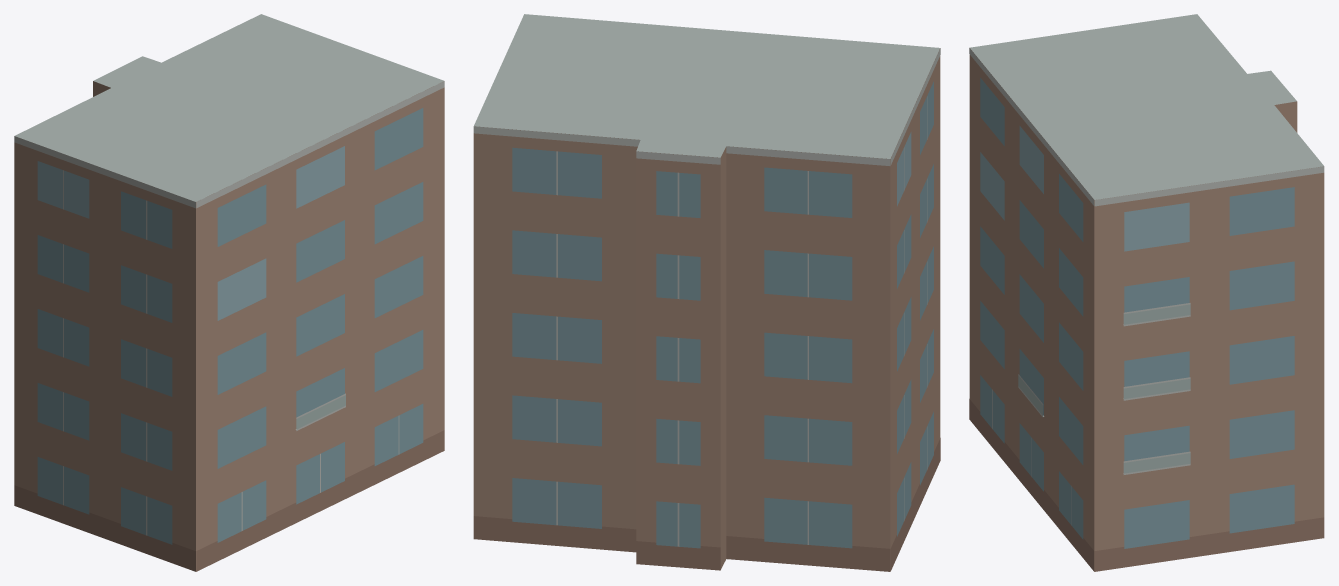
Rendered from survey-upis-32696899.glb.
The picture shows the model from 3 angles, left to right: view 1: azimuth 30°, elevation 25°; view 2: azimuth 150°, elevation 25°; view 3: azimuth 270°, elevation 25°; orthographic projection. The views are drawn at different scales.
Parts seen in each view (by area): view 1: survey-upis-32696899.tmp; view 2: survey-upis-32696899.tmp; view 3: survey-upis-32696899.tmp.
Boxes of the visible parts, bbox=[...] form: survey-upis-32696899.tmp: bbox=[14, 14, 444, 571]; survey-upis-32696899.tmp: bbox=[473, 14, 940, 571]; survey-upis-32696899.tmp: bbox=[969, 14, 1324, 571].
Size of the model in its own units: 15.14 by 14.1 by 12.2.
